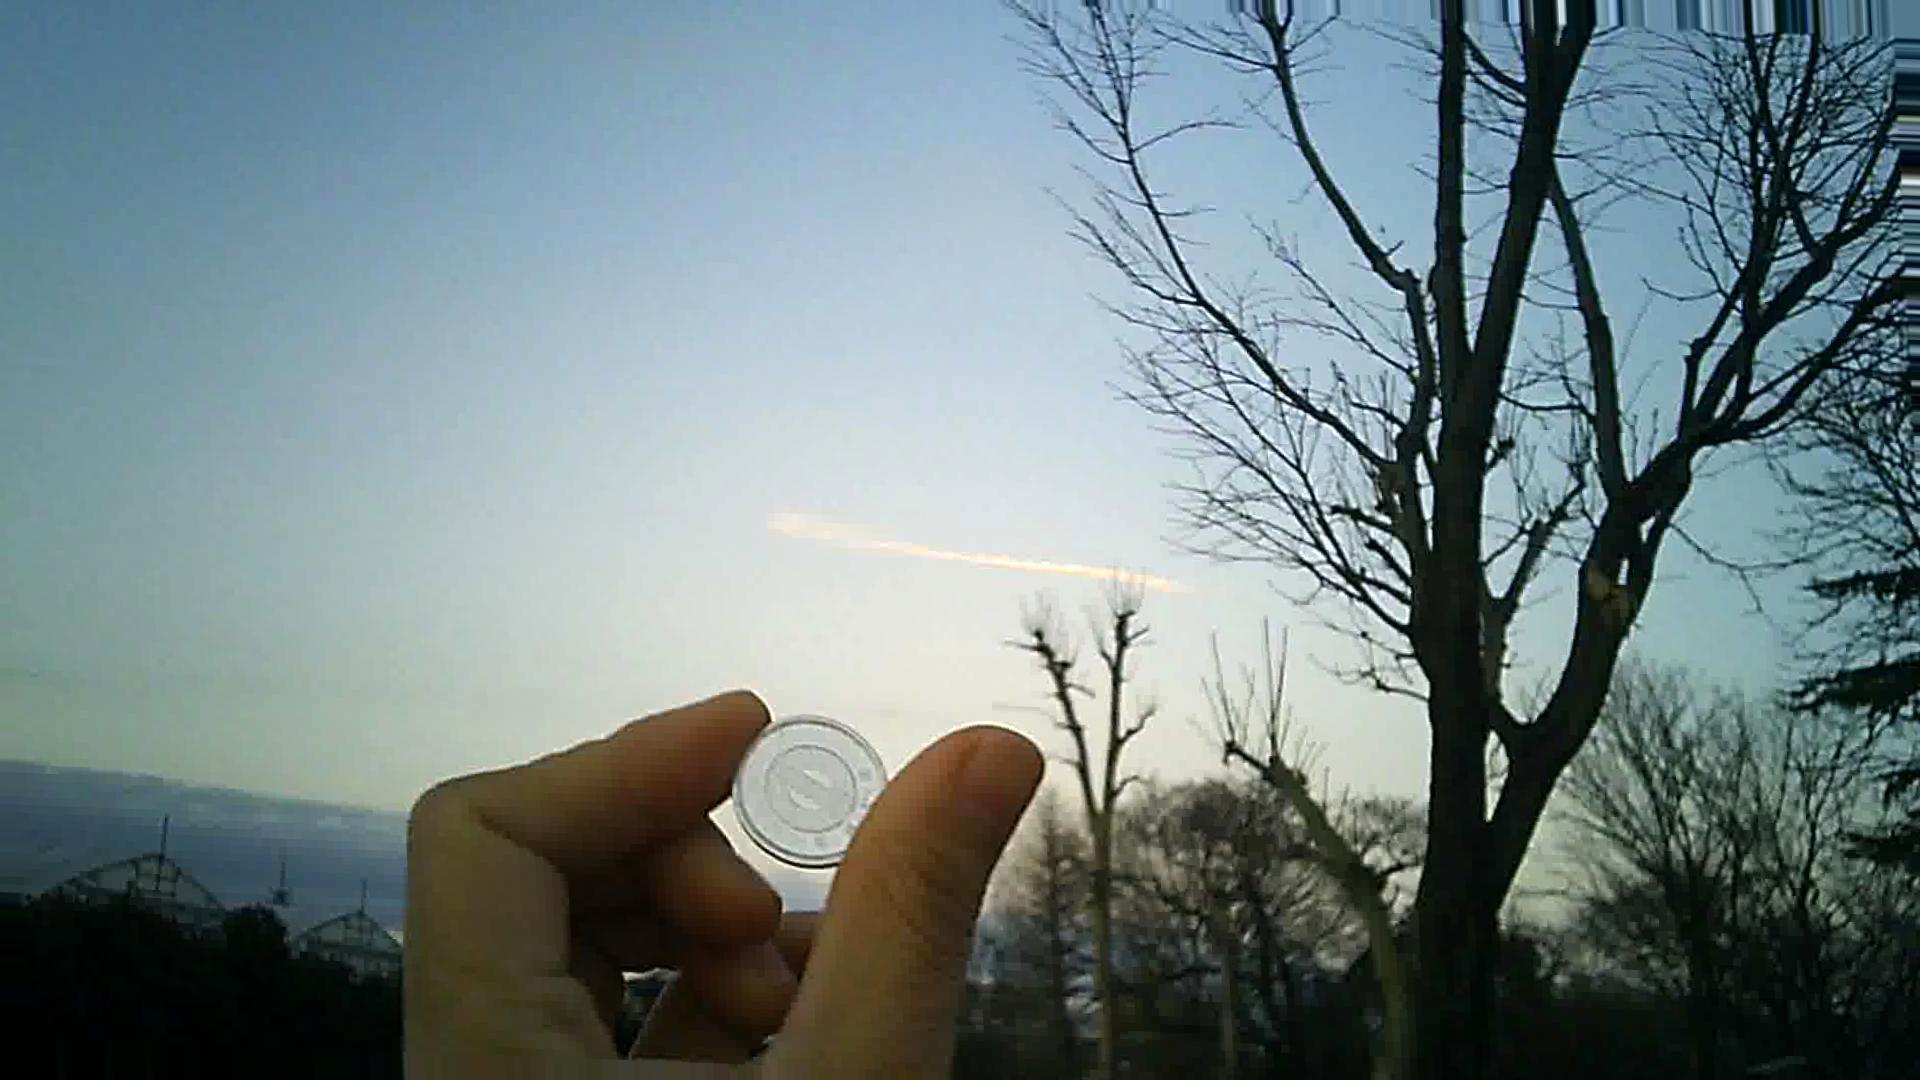1 Yen: (705, 704, 901, 862)
